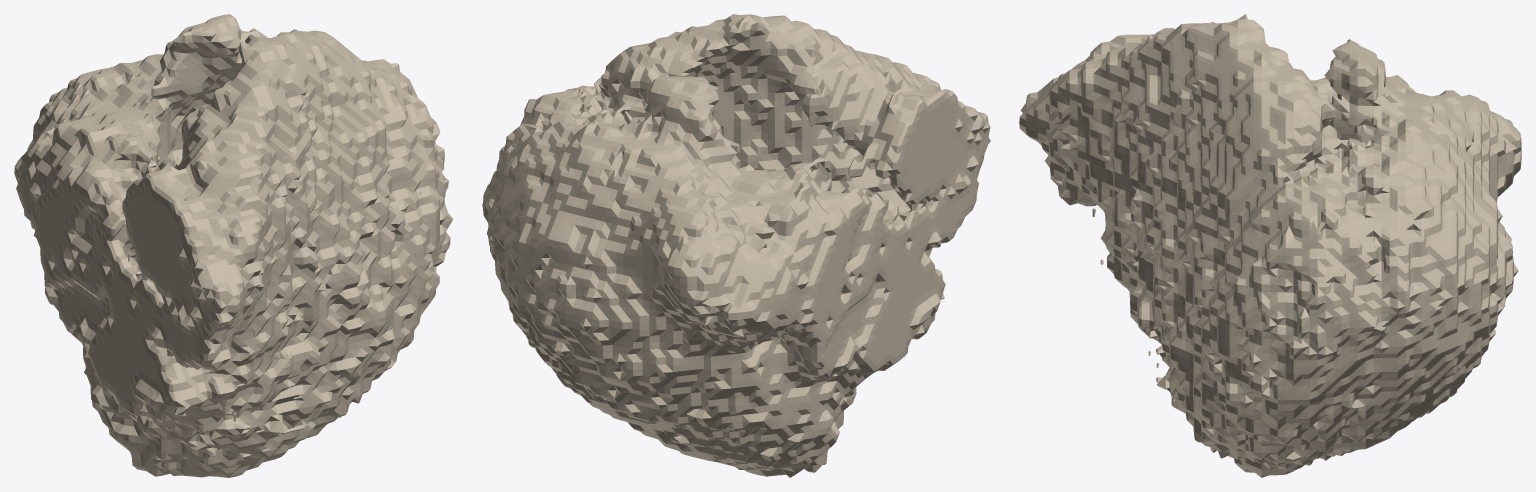
File: r_cerebellum.glb
3 views of the same model, side by side, from view 1: azimuth 30°, elevation 25°; view 2: azimuth 150°, elevation 25°; view 3: azimuth 270°, elevation 25° (orthographic). The views are drawn at different scales.
Parts seen in each view (by area): view 1: world; view 2: world; view 3: world.
Part boxes in pixels (left/top/right/bottom): world: left=14, top=14, right=453, bottom=477; world: left=482, top=14, right=990, bottom=477; world: left=1019, top=14, right=1521, bottom=477.
Size of the model in its own units: 54.78 by 61.84 by 62.78.
